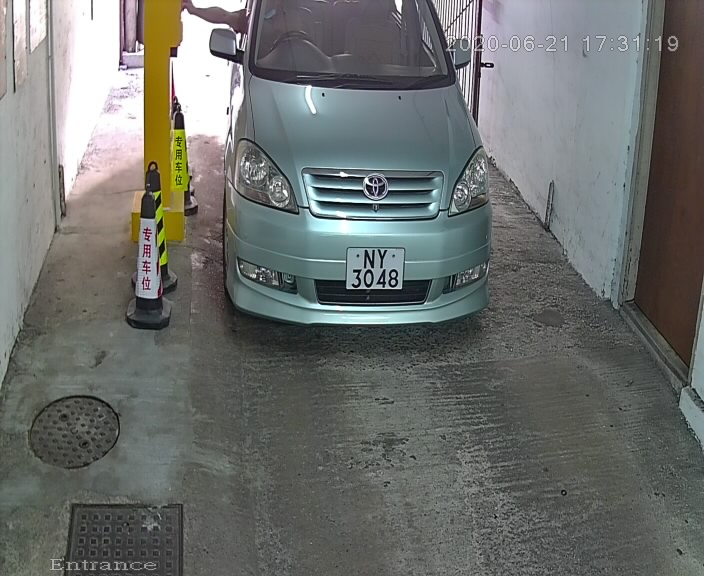privatecar: (201, 1, 508, 348)
